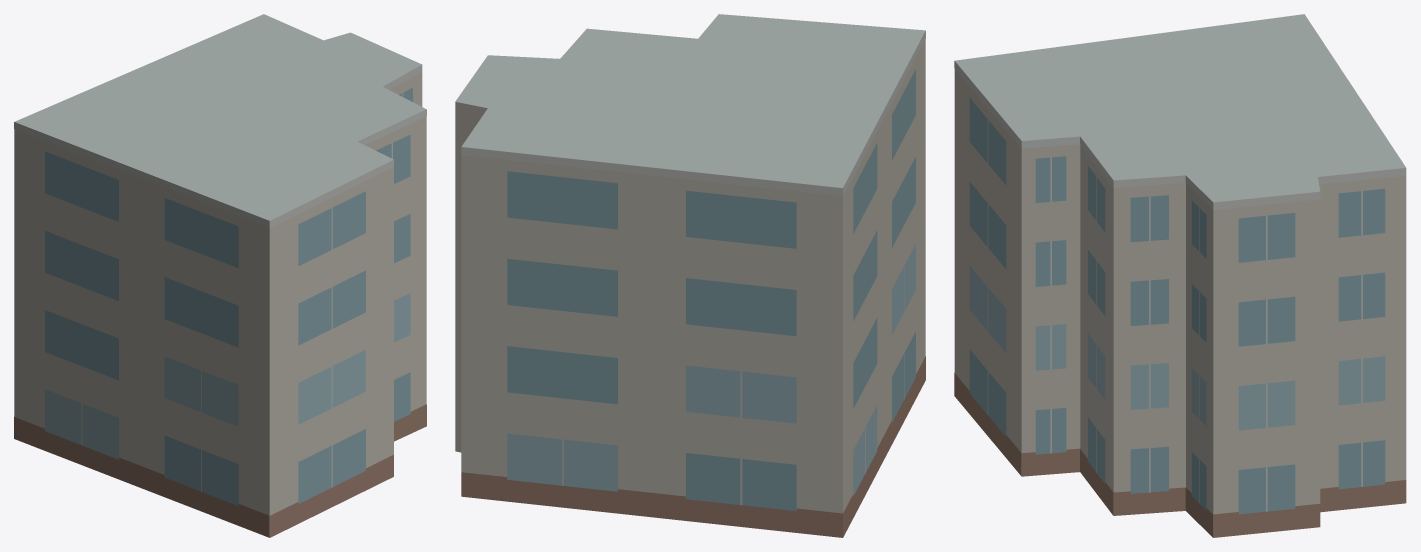
The model's file is survey-upis-32851615.glb.
3 views of the same model, side by side, from view 1: azimuth 30°, elevation 25°; view 2: azimuth 150°, elevation 25°; view 3: azimuth 270°, elevation 25° (orthographic). The views are drawn at different scales.
Visible parts, largest first — view 1: survey-upis-32851615.tmp; view 2: survey-upis-32851615.tmp; view 3: survey-upis-32851615.tmp.
Part boxes in pixels (bbox=[...]): survey-upis-32851615.tmp: bbox=[14, 14, 426, 537]; survey-upis-32851615.tmp: bbox=[455, 14, 925, 537]; survey-upis-32851615.tmp: bbox=[954, 14, 1406, 537].
Size of the model in its own units: 13 by 10.78 by 13.17.
